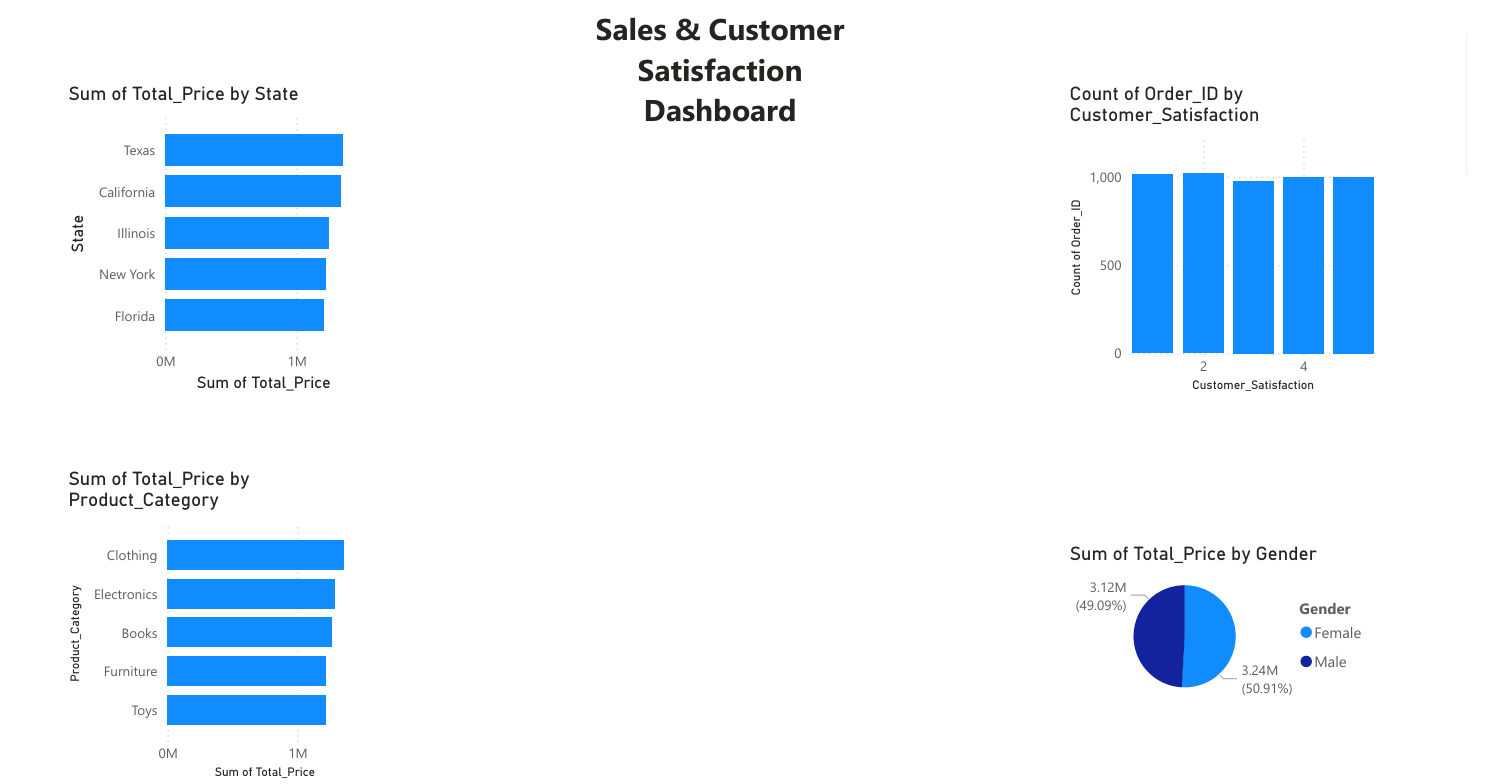

Layout of this report page (visuals, bound fields, positions):
{"tool":"powerbi","page":{"name":"Page 1","canvas":[1280,720],"ordinal":0},"visuals":[{"type":"clusteredBarChart","fields":{"Y":["Sum(sales_data.Total_Price)"],"Category":["sales_data.State"]},"box":[32.1,79.4,279.7,279.7],"z":0},{"type":"clusteredBarChart","fields":{"Category":["sales_data.Product_Category"],"Y":["Sum(sales_data.Total_Price)"]},"box":[32.1,421.4,279.7,281.6],"z":1},{"type":"pieChart","fields":{"Category":["sales_data.Gender"],"Y":["Sum(sales_data.Total_Price)"]},"box":[922.2,487.6,279.7,149.3],"z":2},{"type":"clusteredColumnChart","fields":{"Category":["sales_data.Customer_Satisfaction"],"Y":["CountNonNull(sales_data.Order_ID)"]},"box":[922.2,79.4,279.7,279.7],"z":3},{"type":"textbox","box":[476.2,7.6,279.7,281.6],"z":4}]}

Visuals, with their boxes on the page's 1280x720 design canvas (x1, y1, x2, y2). These are canvas units, not pixel positions in the 1486x784 screenshot, which may show the page scaled, cropped or inside an application window:
clusteredBarChart - Sum(sales_data.Total_Price) x sales_data.State: [x1=32, y1=79, x2=312, y2=359]
clusteredBarChart - sales_data.Product_Category x Sum(sales_data.Total_Price): [x1=32, y1=421, x2=312, y2=703]
pieChart - sales_data.Gender x Sum(sales_data.Total_Price): [x1=922, y1=488, x2=1202, y2=637]
clusteredColumnChart - sales_data.Customer_Satisfaction x CountNonNull(sales_data.Order_ID): [x1=922, y1=79, x2=1202, y2=359]
textbox: [x1=476, y1=8, x2=756, y2=289]
